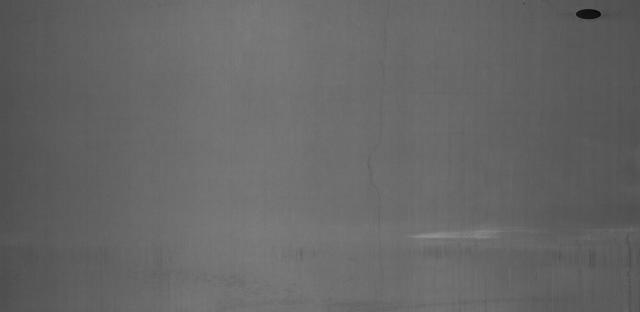punching_hole: (574, 4, 604, 21)
